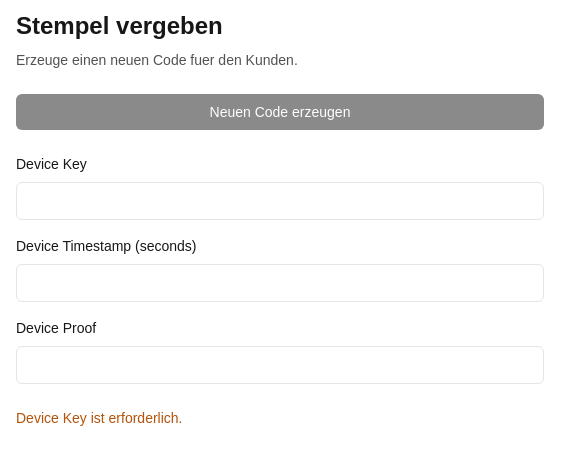
it: StaffStampsPage › shows a German network error message when service is unreachable
This screenshot has width=561, height=471.
Type "device-key" into the field labelled "Device Key".
click(280, 201); type("device-key")  # box [16,182,544,220]
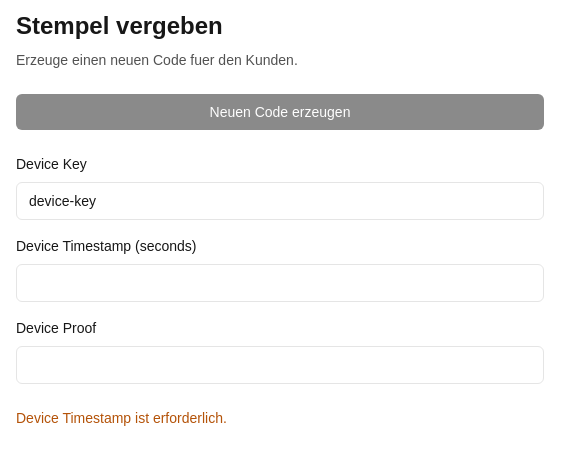
Type "1737686400" into the field labelled "Device Timestamp (seconds)".
click(280, 283); type("1737686400")  # box [16,264,544,302]
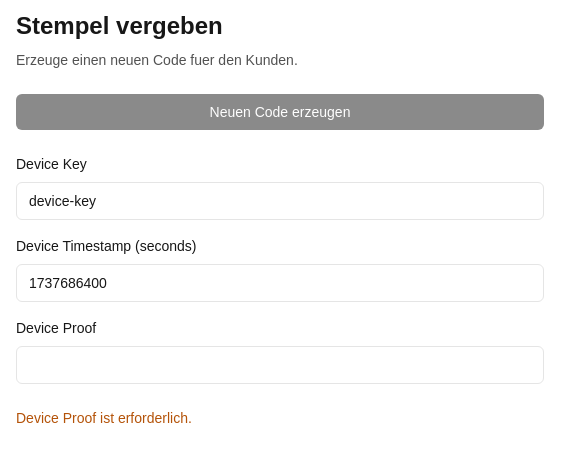
Type "proof" into the password field labelled "Device Proof".
click(280, 365); type("proof")  # box [16,346,544,384]
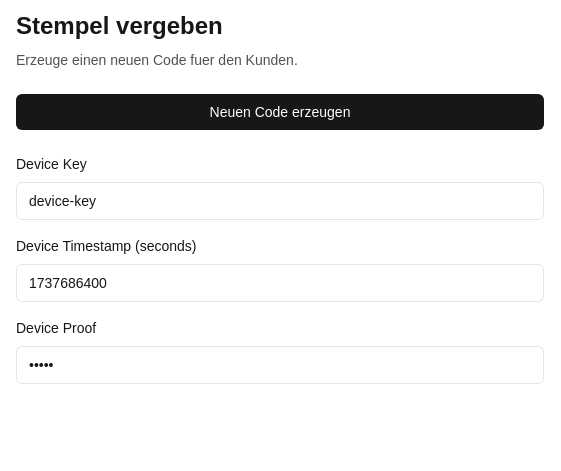
Click the button "Neuen Code erzeugen".
click(280, 112)  # box [16,94,544,130]
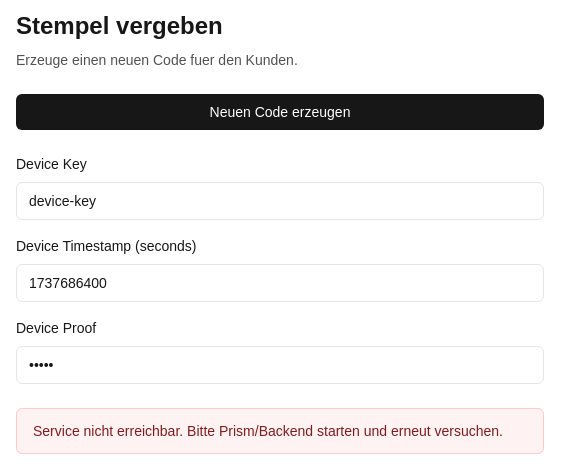
Expected: the text "Service nicht erreichbar. Bitte Prism/Backend starten und erneut versuchen." is shown, [16,408,544,454]
